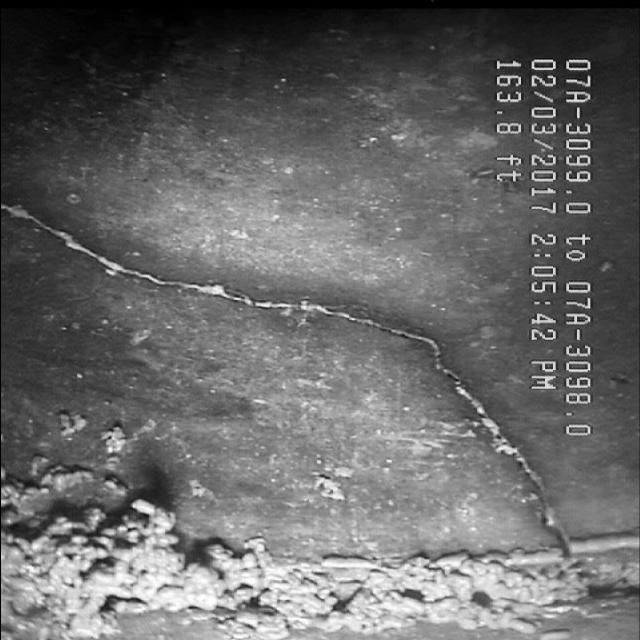Crack: (27, 230, 513, 372)
